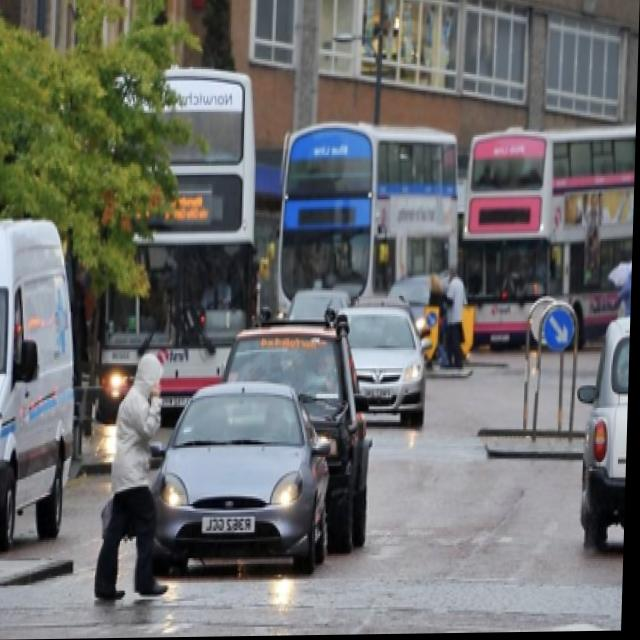licence: (203, 508, 265, 536)
